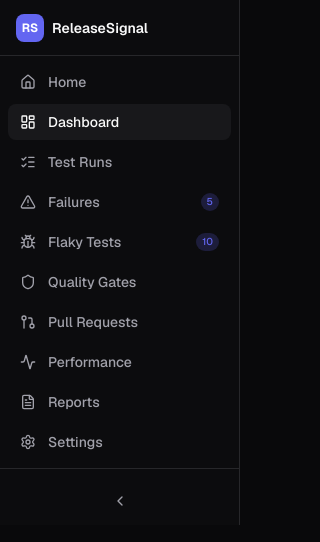
Test: Sidebar › collapses and expands on demand
Check: the text "ReleaseSignal" is shown, box [52,18,148,36]
Click the button named "Collapse navigation" at (120, 501), box [8,485,231,517]
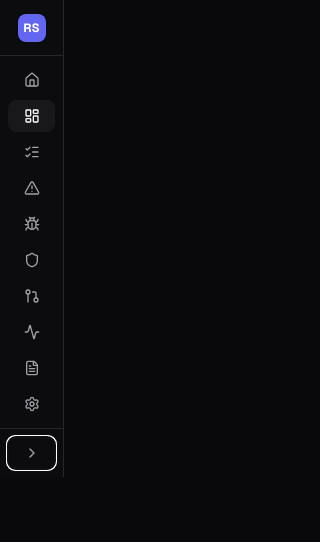
Check: the text "ReleaseSignal" is gone
Check: the button named "Expand navigation" is collapsed, box [8,437,55,469]
